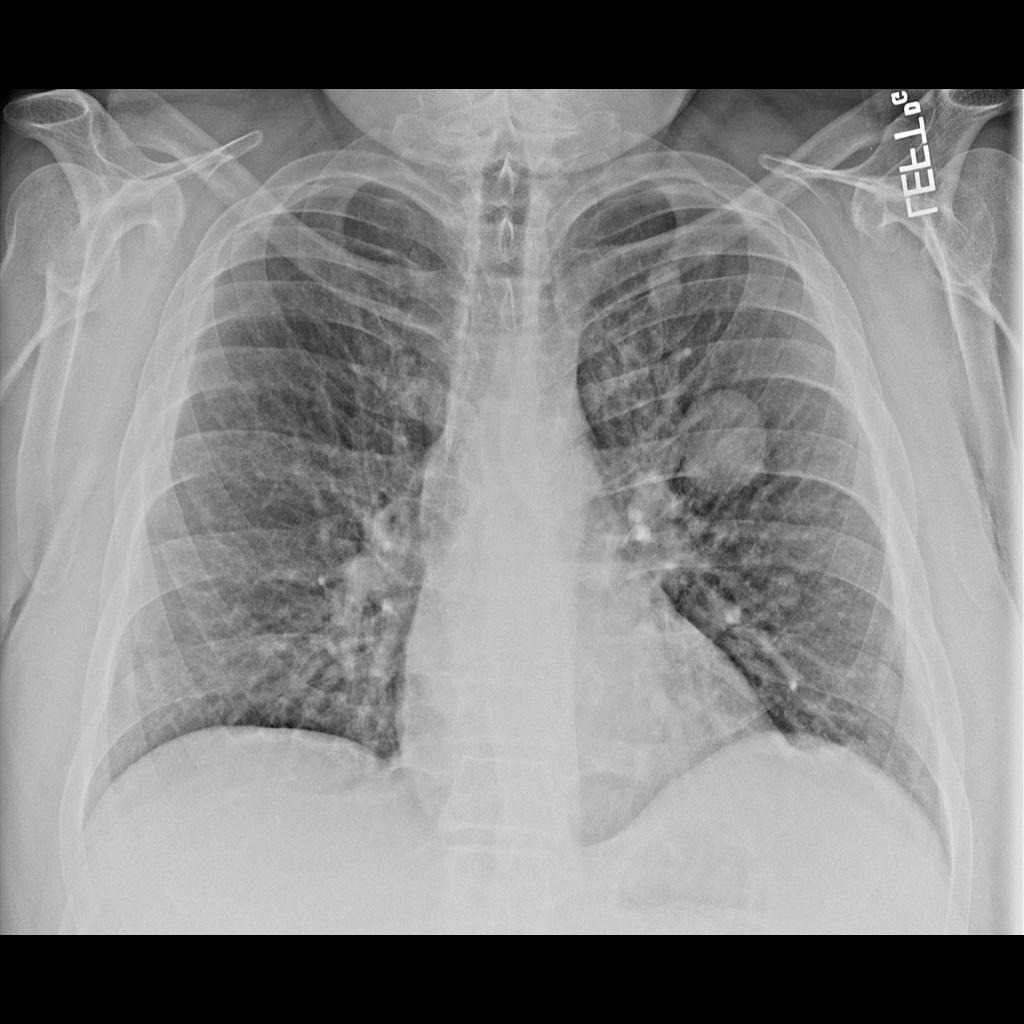Nodule: (679, 385, 779, 501), (650, 264, 690, 316), (769, 570, 809, 611)
